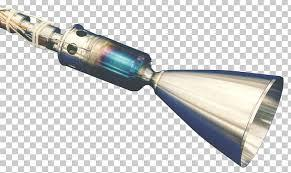thruster: (153, 68, 285, 167)
